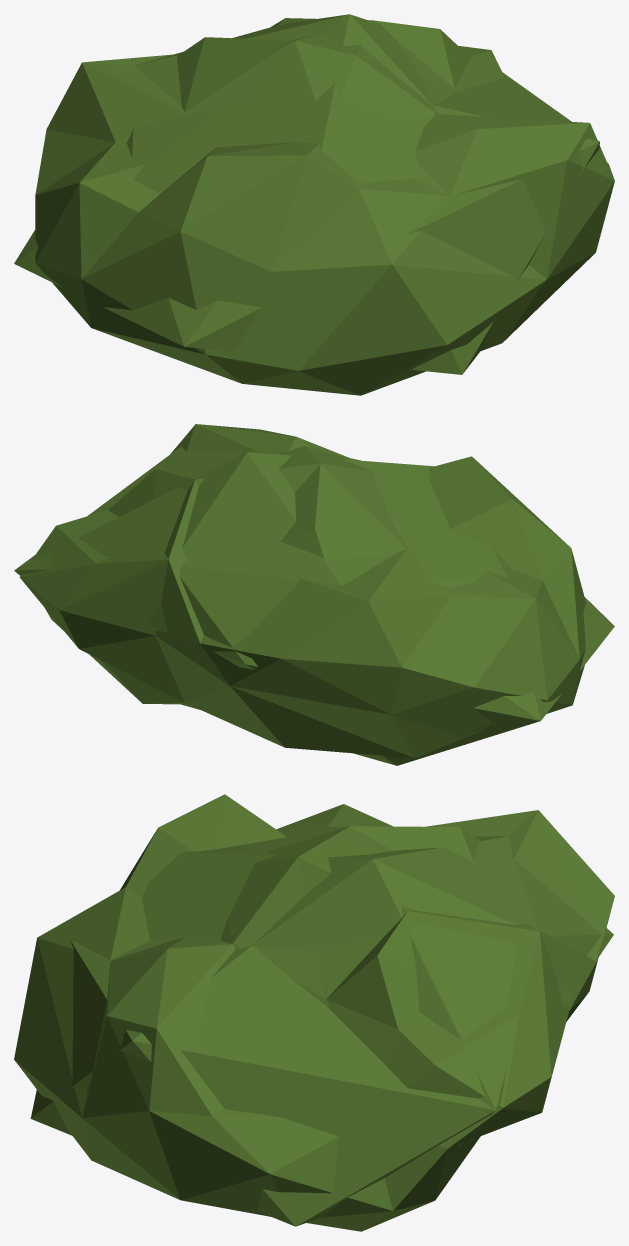
The model's file is B-Bush1.fbx.
3 renders of one model, top to bottom at view 1: azimuth 30°, elevation 25°; view 2: azimuth 150°, elevation 25°; view 3: azimuth 270°, elevation 25°, orthographic. The views are drawn at different scales.
Parts seen in each view (by area): view 1: Bush_1_2_LOD1; view 2: Bush_1_2_LOD1; view 3: Bush_1_2_LOD1.
Boxes of the visible parts, x1,y1,x2,y2 form: Bush_1_2_LOD1: (14,14,614,395); Bush_1_2_LOD1: (14,424,614,765); Bush_1_2_LOD1: (14,794,614,1231).
Size of the model in its own units: 202 by 102 by 171.
